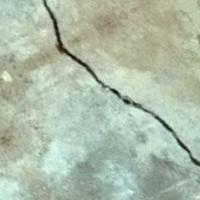crack: (35, 0, 199, 172)
